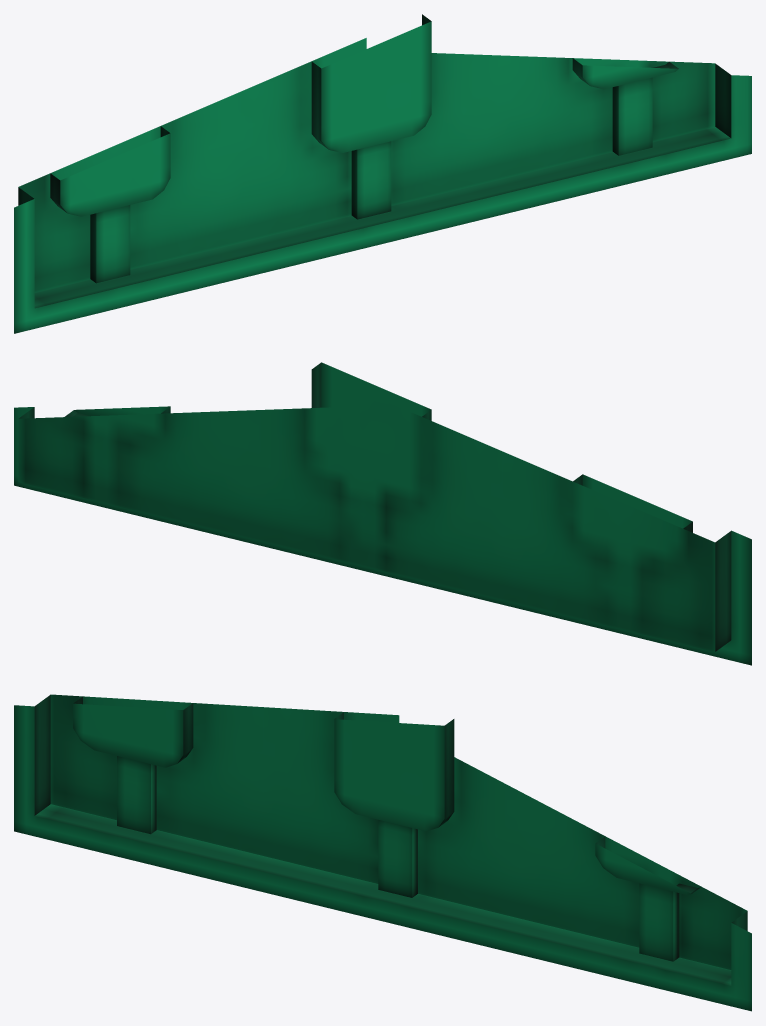
Rendered from sc_finalBoss_slideDoorC_destroyed_A.FBX.
The picture shows the model from 3 angles, top to bottom: view 1: azimuth 30°, elevation 25°; view 2: azimuth 150°, elevation 25°; view 3: azimuth 330°, elevation 25°; orthographic projection.
Visible parts, largest first — view 1: finalBoss_slideDoorC_destroyed_A; view 2: finalBoss_slideDoorC_destroyed_A; view 3: finalBoss_slideDoorC_destroyed_A.
Boxes of the visible parts, <box> form: finalBoss_slideDoorC_destroyed_A: <box>14,14,751,333</box>; finalBoss_slideDoorC_destroyed_A: <box>14,362,751,665</box>; finalBoss_slideDoorC_destroyed_A: <box>14,694,751,1011</box>.
Bounding box in the file's own units: 14.24 × 3.77 × 0.5433.
